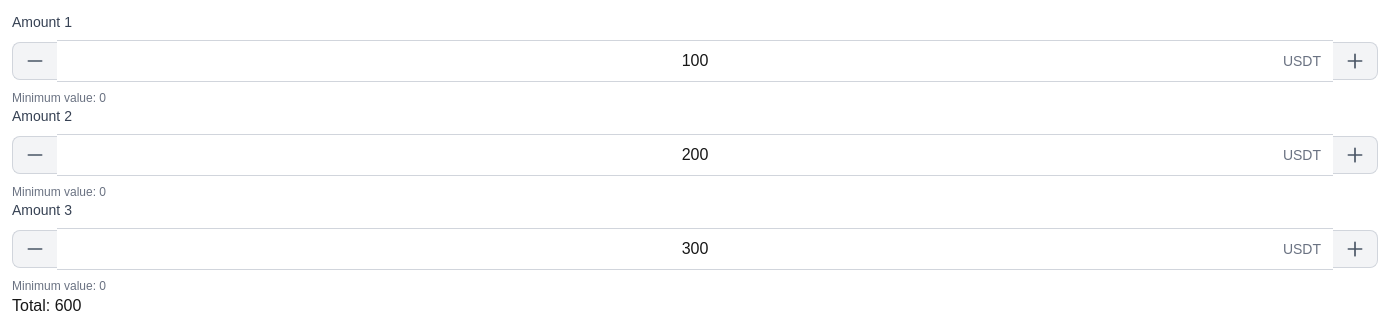
Scenario: AmountInput Integration Tests › Multiple AmountInput Instances › should update total when any input changes
The image size is (1390, 331).
expect the text with test id "total" reads "Total: 600": met, box [12, 297, 81, 314]
Replace the text in the field labelled "Amount 1" with "1000" at x=695, y=61, box [57, 40, 1333, 82]
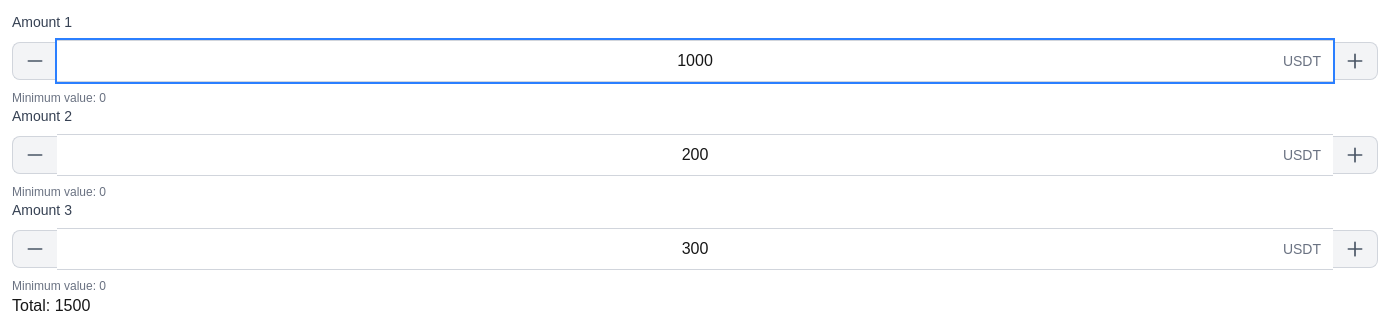
expect the text with test id "total" reads "Total: 1500": met, box [12, 297, 90, 314]
